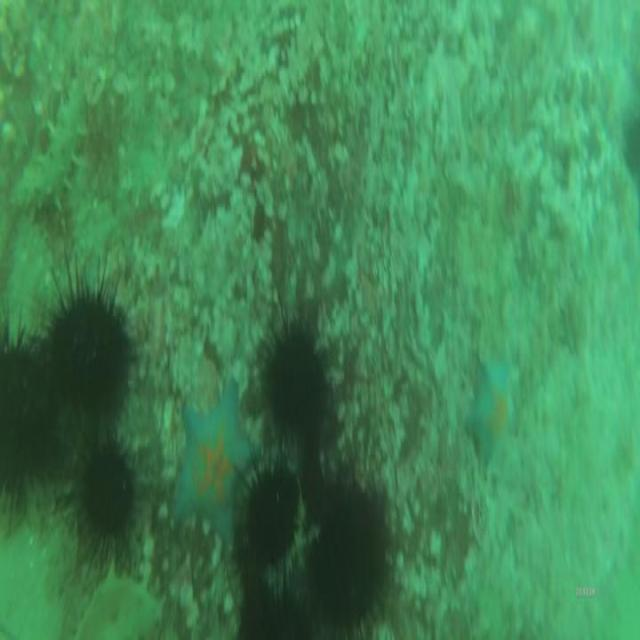echinus: (31, 254, 141, 430), (0, 305, 61, 526), (311, 474, 394, 624), (251, 302, 333, 453), (69, 427, 143, 569), (245, 465, 302, 567), (236, 575, 306, 640)
holothurian: (28, 76, 92, 218)
starfish: (166, 373, 256, 551), (467, 346, 519, 474)
